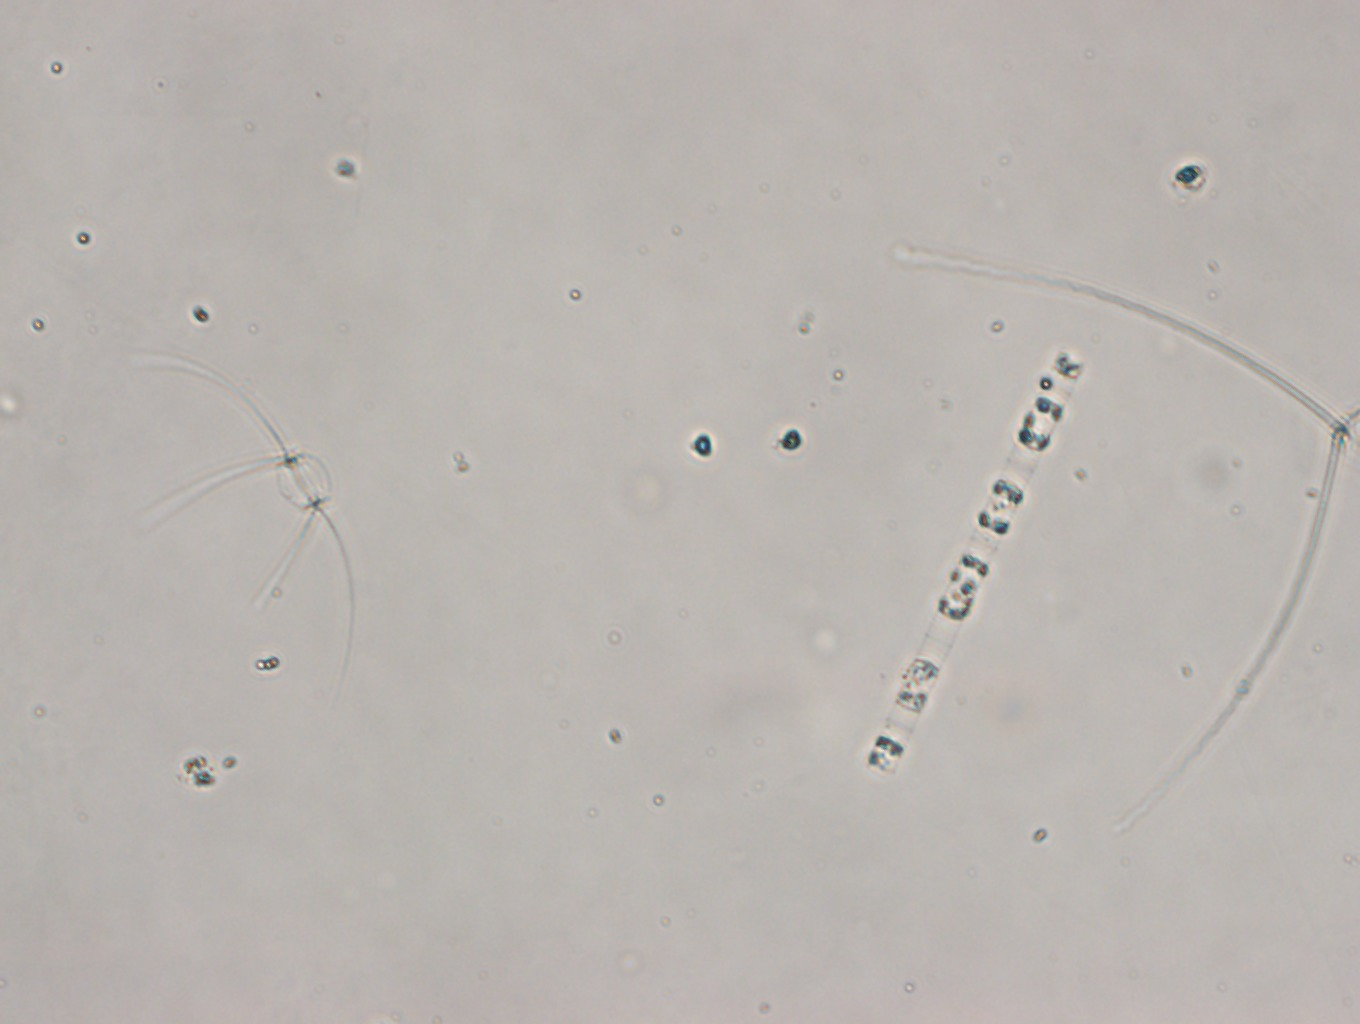chaetoceros: (130, 345, 357, 683)
skeletonema: (863, 343, 1086, 777)
